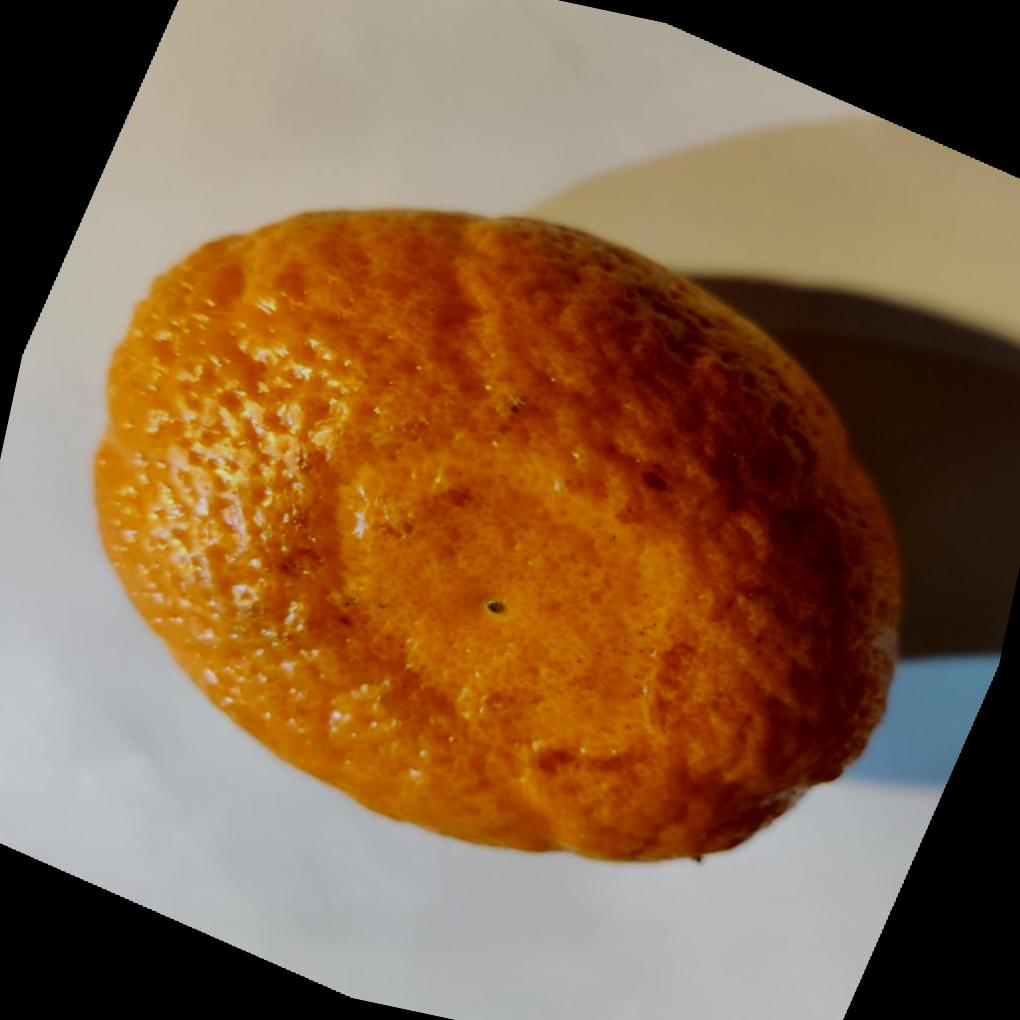FreshGuava: (92, 206, 910, 866)
